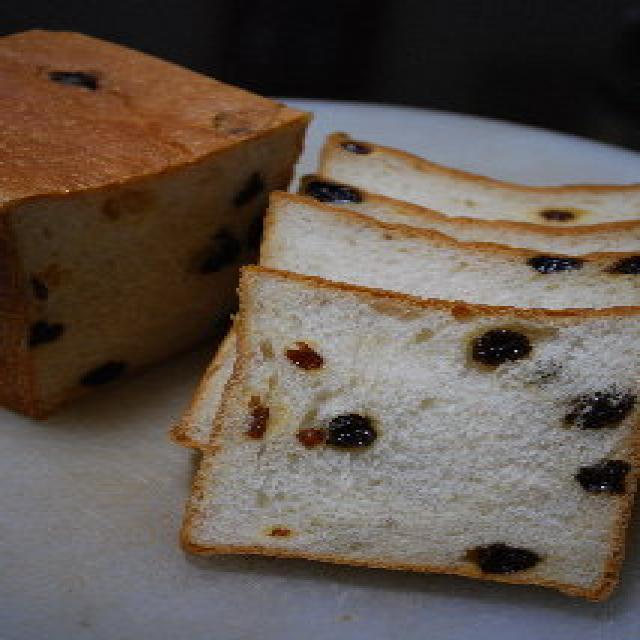面包点心: (0, 20, 640, 592)
